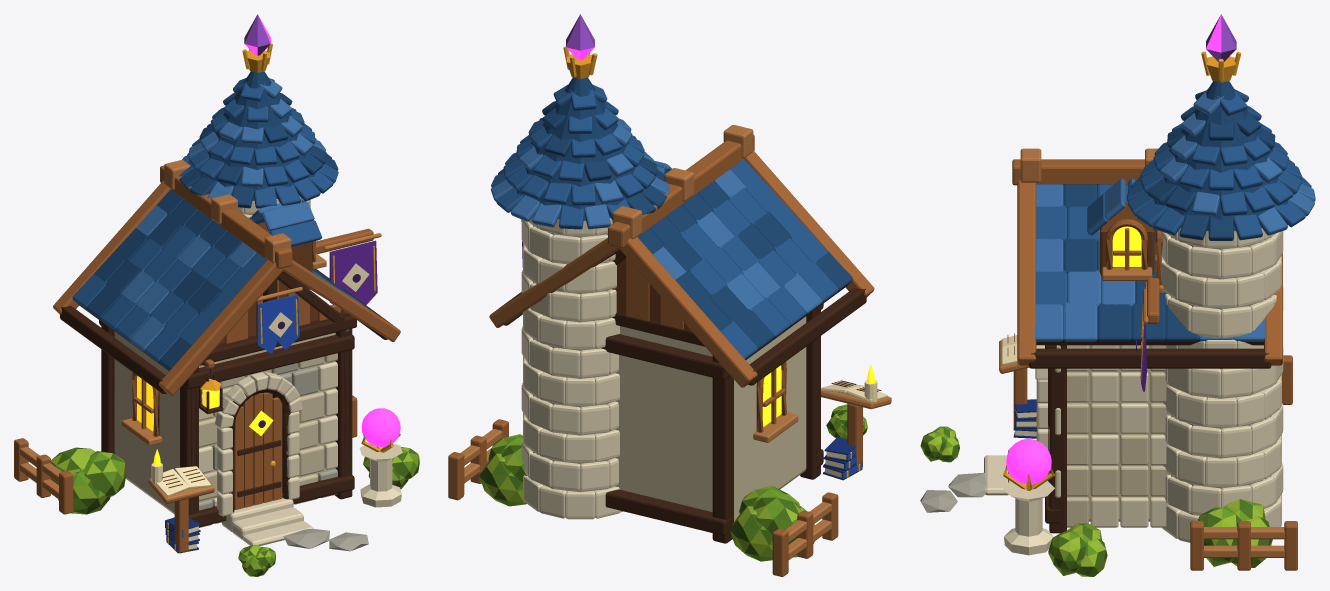
The model's file is magic_academy.glb.
3 views of the same model, side by side, from view 1: azimuth 30°, elevation 25°; view 2: azimuth 150°, elevation 25°; view 3: azimuth 270°, elevation 25° (orthographic). The views are drawn at different scales.
Parts seen in each view (by area): view 1: Cottage walls, Carved roof verge, Wall cross beam.002, Turret cone backing, Ridge timber, Roof eave, Corner upright.002, Carved roof verge.002, Cloth heraldic banner.001, Carved roof verge.001, Orb stone pedestal, Corner upright (+62 smaller); view 2: Cottage walls, Carved roof verge.001, Turret cone backing, Corner upright.001, Ridge timber, Roof eave, Wall cross beam.001, Wall cross beam.003, Carved roof verge.003, Carved roof verge, Corner upright, Leaf cluster.005 (+72 smaller); view 3: Roof eave.001, Turret cone backing, Carved roof verge.002, Ridge timber, Orb stone pedestal, Corner upright.002, Cottage walls, Academy glowing orb, Soft edged blue roof tile.065, Soft edged blue roof tile.066, Leaf cluster.012, Carved roof verge.003 (+99 smaller).
Part boxes in pixels (box(x1,y1,x2,y2)): Cottage walls: box(114, 332, 335, 514); Carved roof verge: box(158, 259, 283, 395); Wall cross beam.002: box(183, 334, 354, 389); Turret cone backing: box(200, 71, 315, 200); Ridge timber: box(160, 165, 292, 268); Roof eave: box(60, 306, 166, 393); Corner upright.002: box(334, 309, 352, 499); Carved roof verge.002: box(283, 260, 400, 341); Cloth heraldic banner.001: box(329, 240, 377, 304); Carved roof verge.001: box(53, 180, 170, 314); Orb stone pedestal: box(359, 443, 402, 507); Corner upright: box(180, 367, 198, 514); Cottage walls: box(615, 316, 806, 521); Carved roof verge.001: box(619, 237, 757, 387); Turret cone backing: box(517, 77, 644, 220); Corner upright.001: box(712, 355, 733, 543); Ridge timber: box(608, 134, 754, 247); Roof eave: box(748, 288, 866, 385); Wall cross beam.001: box(605, 489, 731, 535); Wall cross beam.003: box(601, 334, 730, 380); Carved roof verge.003: box(489, 238, 619, 327); Carved roof verge: box(744, 150, 874, 297); Corner upright: box(800, 309, 820, 479); Leaf cluster.005: box(730, 505, 772, 561); Roof eave.001: box(1029, 348, 1271, 368); Turret cone backing: box(1153, 81, 1287, 231); Carved roof verge.002: box(1017, 180, 1036, 365); Ridge timber: box(1012, 159, 1290, 185); Orb stone pedestal: box(1003, 481, 1054, 555); Corner upright.002: box(1049, 345, 1066, 533); Cottage walls: box(1067, 345, 1163, 521); Academy glowing orb: box(1006, 438, 1051, 484); Soft edged blue roof tile.065: box(1063, 302, 1097, 341); Soft edged blue roof tile.066: box(1097, 302, 1131, 341); Leaf cluster.012: box(1048, 531, 1086, 572); Carved roof verge.003: box(1264, 253, 1282, 365).
Bounding box in the file's own units: 3.99 × 5.55 × 3.78.
